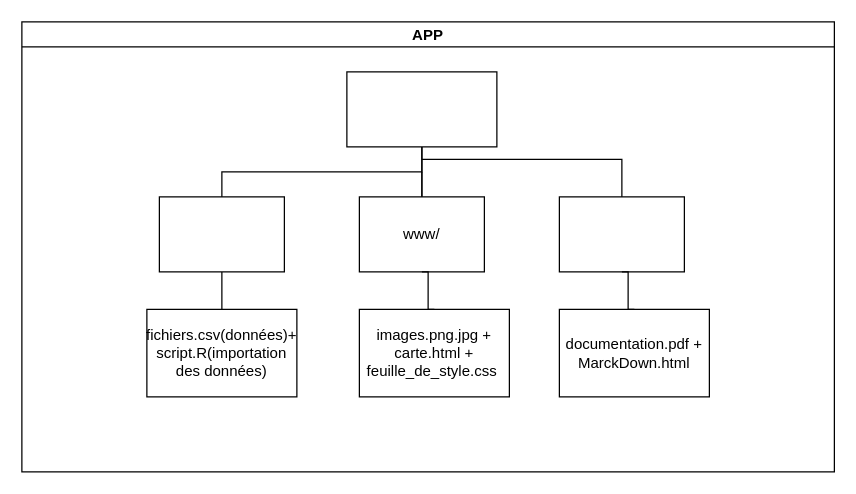
This 856x494 diagram has some shape labels left out. The shapes that lost their labels are listed below. From the top down, each one's centre as x and y in pixels, then its label:
At pixel 421 109: "Code_Application.R".
At pixel 221 234: "data/".
At pixel 621 234: "doc/".
